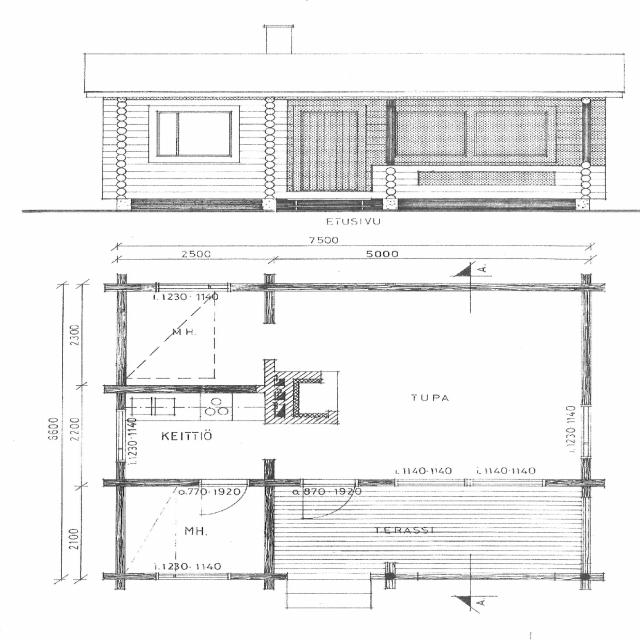door: (302, 480, 354, 524), (201, 480, 246, 519)
